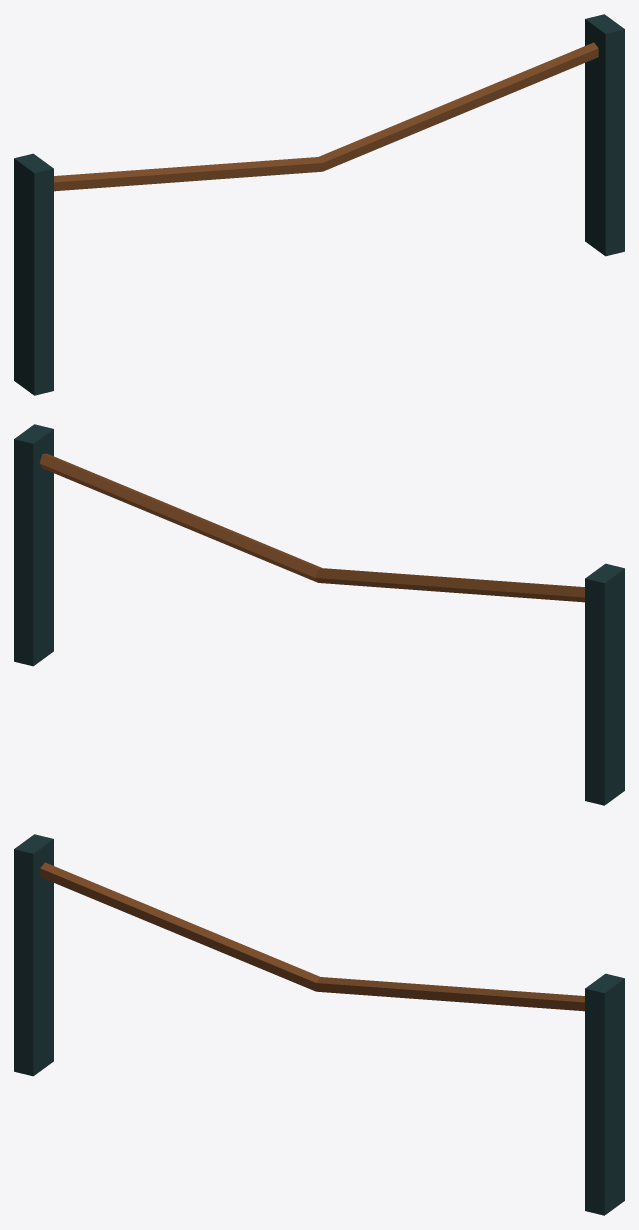
The model's file is rope_barrier_segment.fbx.
3 renders of one model, top to bottom at view 1: azimuth 30°, elevation 25°; view 2: azimuth 150°, elevation 25°; view 3: azimuth 330°, elevation 25°, orthographic.
Visible parts, largest first — view 1: rope_barrier_segment; view 2: rope_barrier_segment; view 3: rope_barrier_segment.
Boxes of the visible parts, box(x1,y1,x2,y2) form: rope_barrier_segment: box(14, 14, 624, 395); rope_barrier_segment: box(14, 424, 624, 805); rope_barrier_segment: box(14, 834, 624, 1215).
Size of the model in its own units: 2.5 by 0.9 by 0.15.
